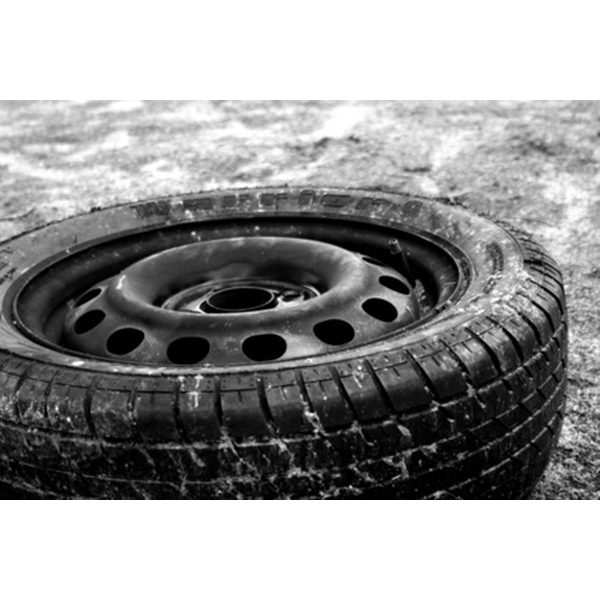tire: (1, 187, 564, 500)
